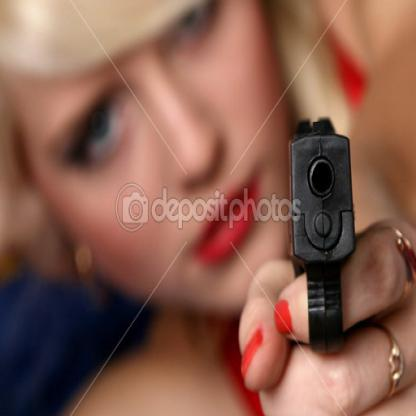gun: (284, 107, 370, 415)
